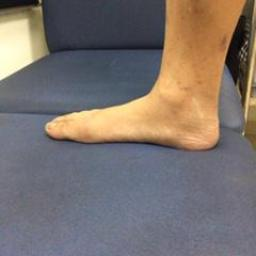Medial View -Right Foot-: (38, 57, 235, 163)
